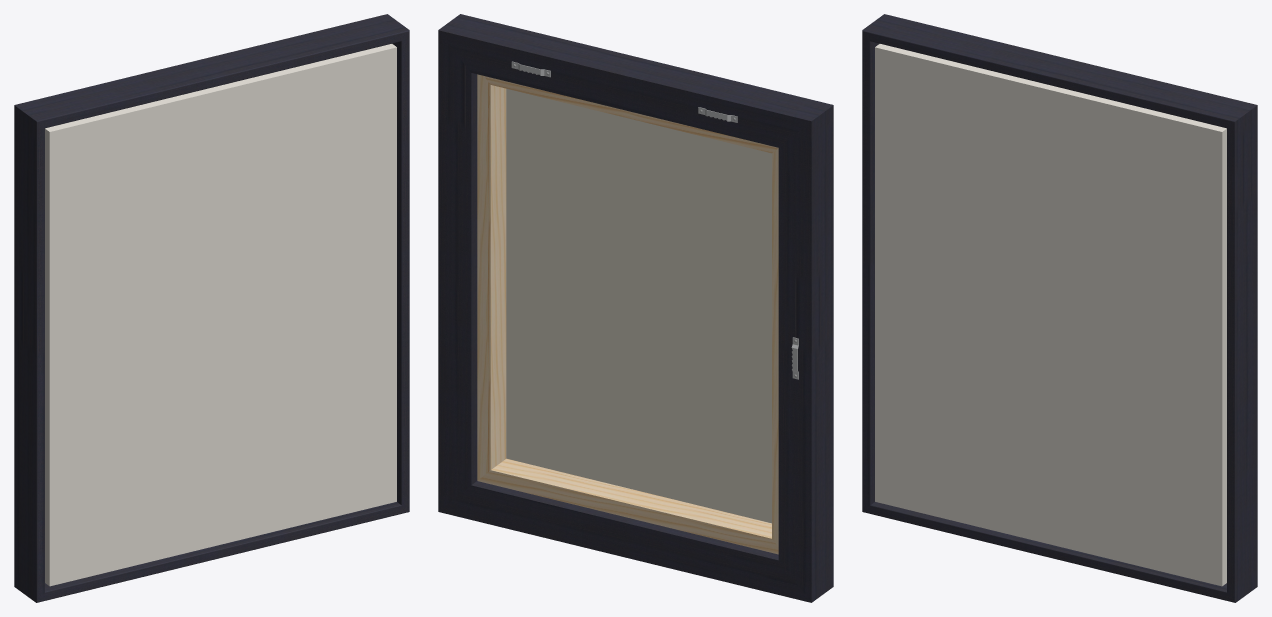
Rendered from decoded-from-delivery.glb.
3 views of the same model, side by side, from view 1: azimuth 30°, elevation 25°; view 2: azimuth 150°, elevation 25°; view 3: azimuth 330°, elevation 25° (orthographic).
Visible parts, largest first — view 1: Canvas artwork front, Tray approved profile 0; view 2: Canvas linen reverse, Tray approved profile 0, Stretcher top, Sawtooth hanger 0; view 3: Canvas artwork front, Tray approved profile 0.
Boxes of the visible parts, x1,y1,x2,y2 form: Canvas artwork front: [45, 44, 396, 586]; Tray approved profile 0: [14, 14, 409, 602]; Canvas linen reverse: [506, 88, 771, 523]; Tray approved profile 0: [438, 14, 833, 602]; Stretcher top: [477, 74, 778, 554]; Sawtooth hanger 0: [511, 61, 798, 379]; Canvas artwork front: [875, 44, 1226, 586]; Tray approved profile 0: [862, 14, 1257, 602].
Bounding box in the file's own units: 0.43 × 0.53 × 0.0474.
Materials: 7 (3 with a texture image).
